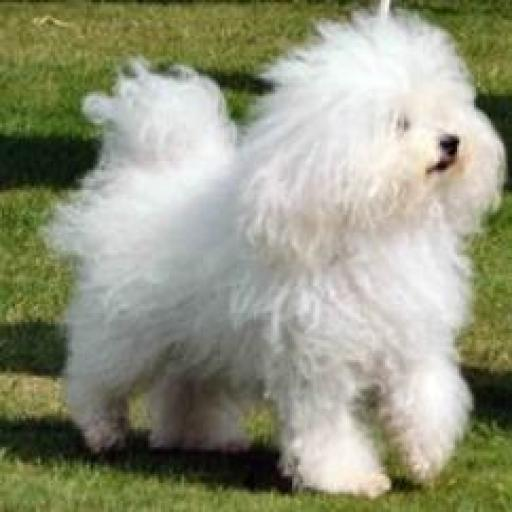dog_face: (279, 15, 512, 220)
